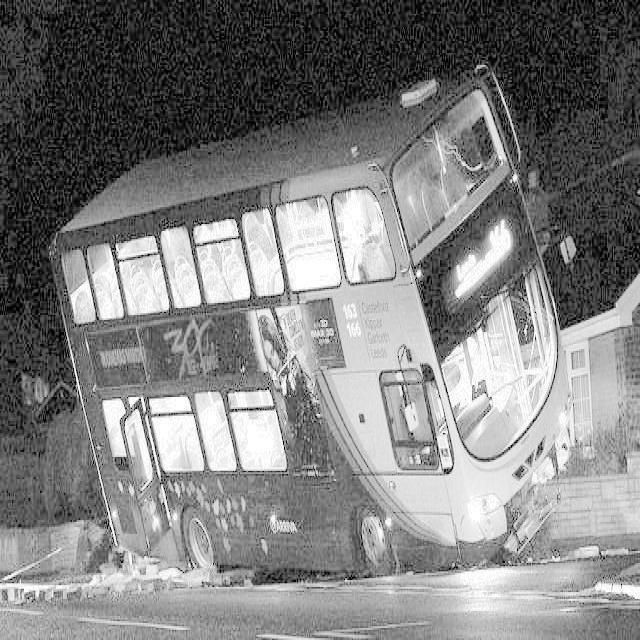Bus: (50, 58, 578, 578)
